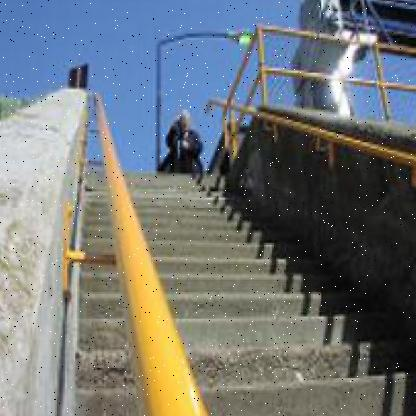stair_up: (83, 157, 374, 409)
